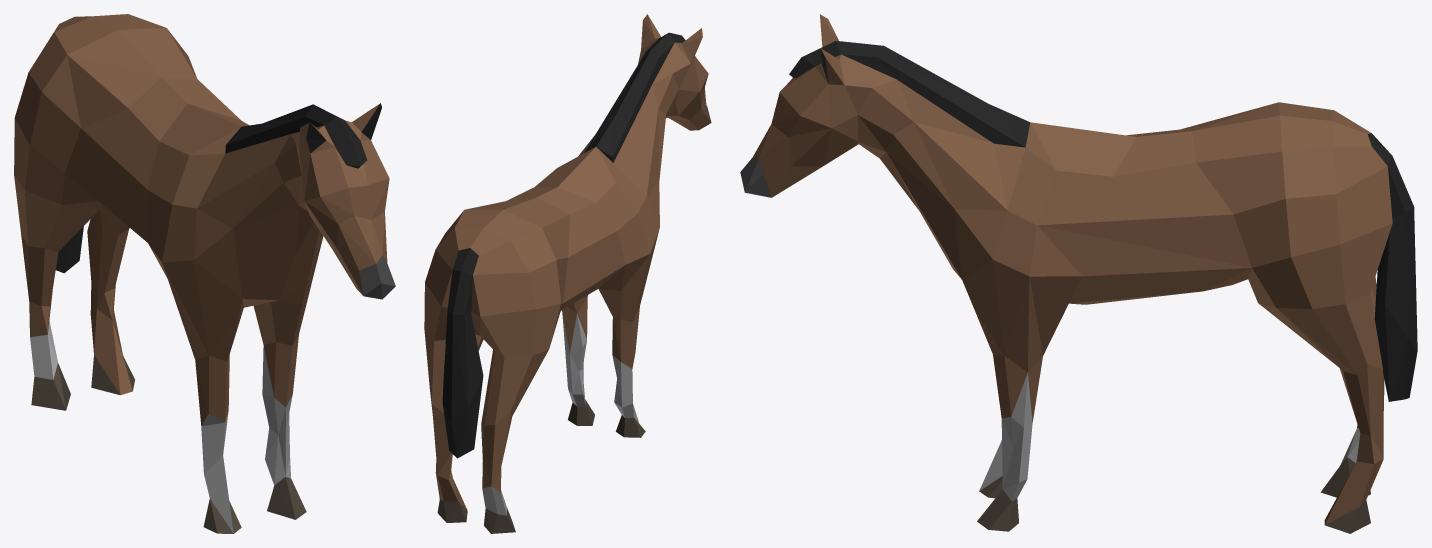
Rendered from horse.glb.
3 views of the same model, side by side, from view 1: azimuth 30°, elevation 25°; view 2: azimuth 150°, elevation 25°; view 3: azimuth 270°, elevation 25° (orthographic). The views are drawn at different scales.
Visible parts, largest first — view 1: horse; view 2: horse; view 3: horse.
Part boxes in pixels (box(x1,y1,x2,y2)): horse: box(14, 14, 395, 533); horse: box(424, 14, 711, 533); horse: box(740, 14, 1417, 533).
Bounding box in the file's own units: 0.7234 × 1.98 × 2.54.
